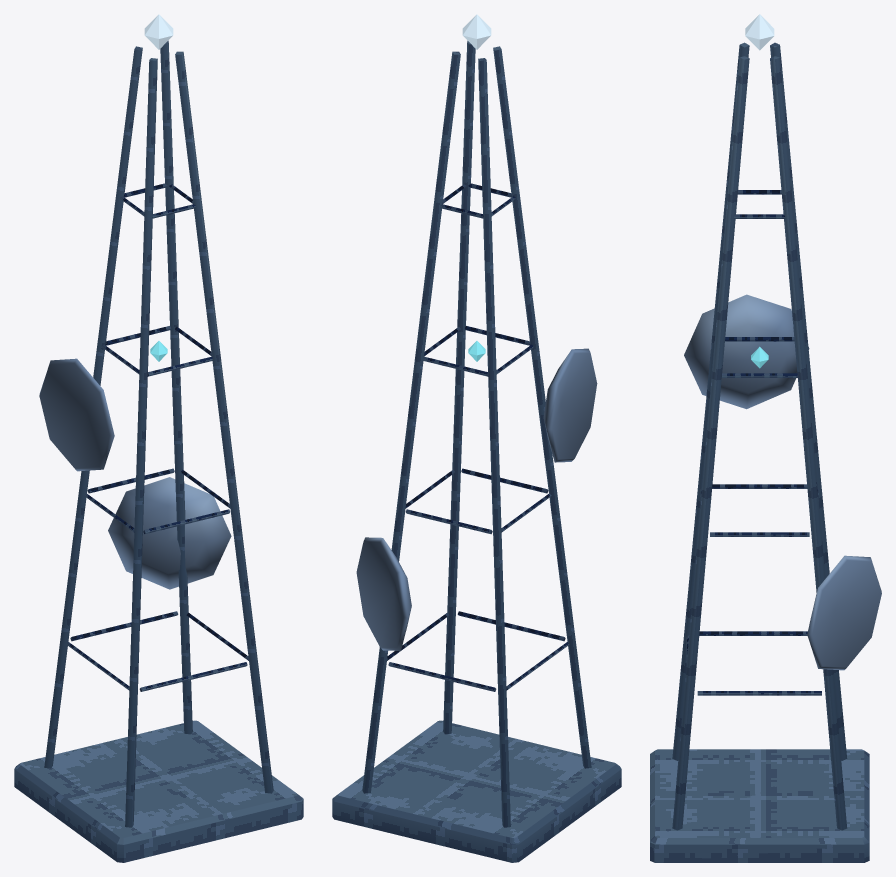
The model's file is cytower.spire.glb.
3 views of the same model, side by side, from view 1: azimuth 30°, elevation 25°; view 2: azimuth 150°, elevation 25°; view 3: azimuth 270°, elevation 25° (orthographic).
Visible parts, largest first — view 1: kit_mast, kit_beacon; view 2: kit_mast, kit_beacon; view 3: kit_mast, kit_beacon.
Part boxes in pixels (left/top/right/bottom): kit_mast: left=14, top=40, right=303, bottom=862; kit_beacon: left=144, top=14, right=173, bottom=361; kit_mast: left=332, top=40, right=621, bottom=862; kit_beacon: left=462, top=14, right=491, bottom=361; kit_mast: left=650, top=42, right=881, bottom=862; kit_beacon: left=745, top=14, right=774, bottom=368.
Size of the model in its own units: 2.69 by 10.49 by 2.75.
Materials: 5 (4 with a texture image).
